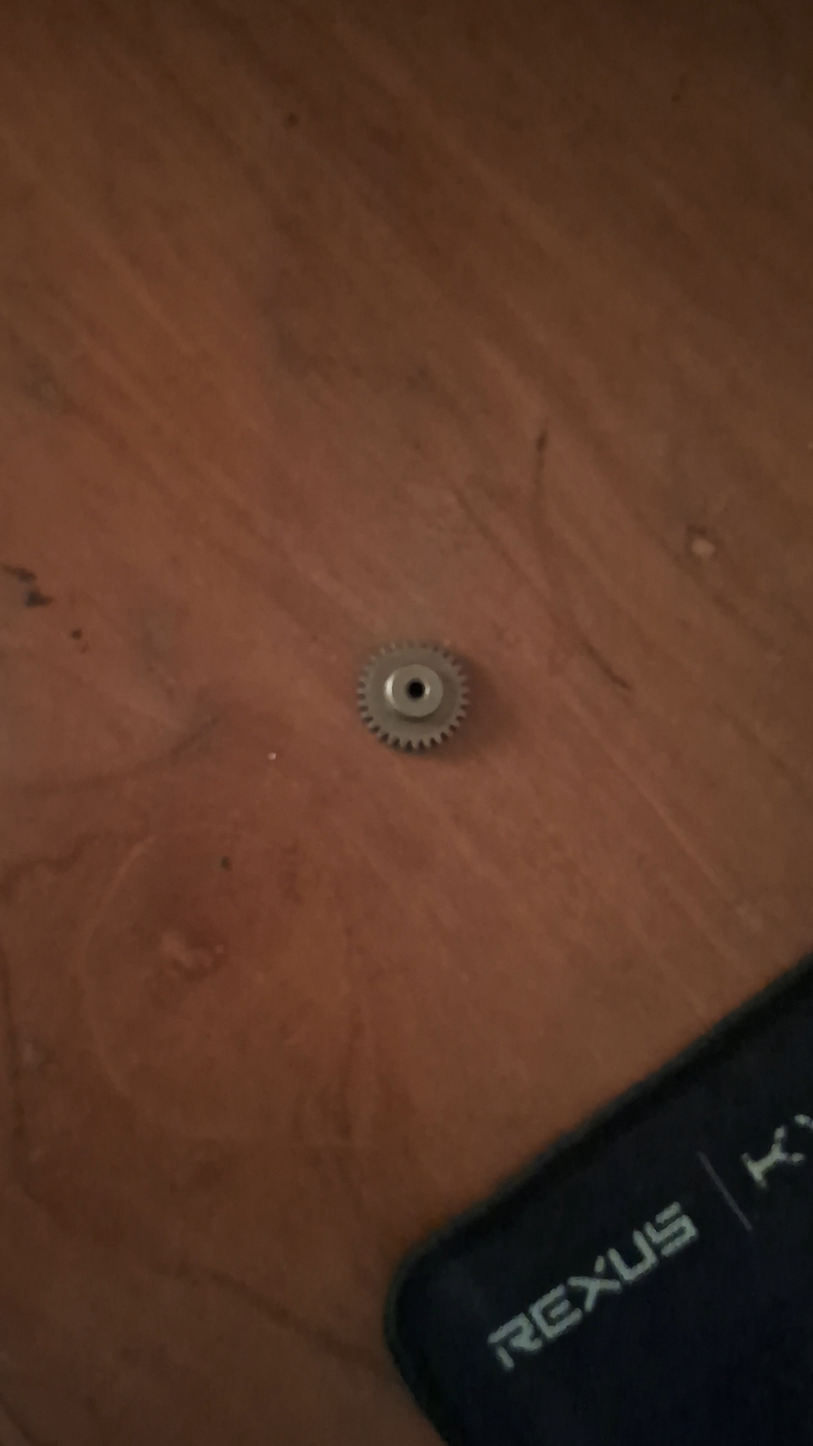spur gear: (358, 645, 468, 751)
